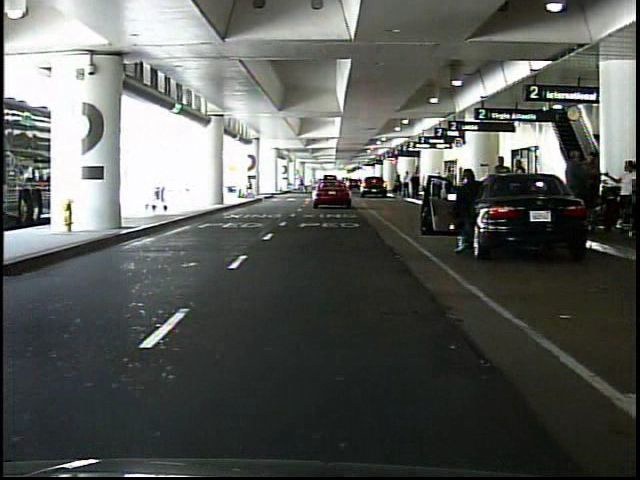person: (453, 160, 481, 257), (561, 146, 589, 228), (611, 160, 636, 232), (492, 153, 513, 216), (513, 158, 530, 215), (411, 171, 421, 200), (403, 169, 412, 199), (395, 174, 404, 197), (297, 176, 306, 193), (590, 147, 591, 229)
